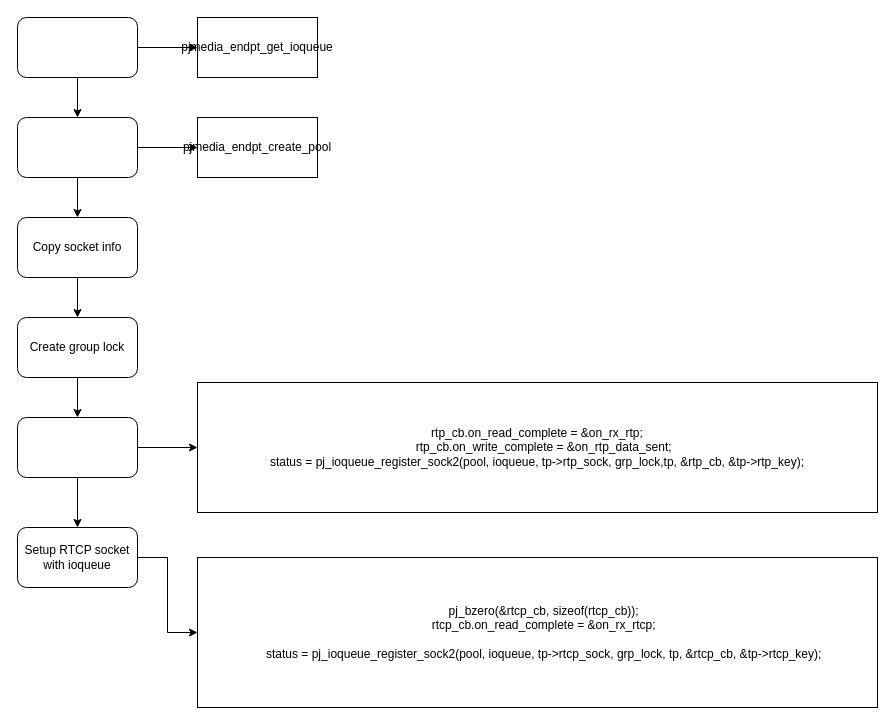
This 895x725 diagram has some shape labels left out. Each missing label, with the centre of its shape:
"Create transport structure" goes at point 77,147.
"Get ioqueue instance" goes at point 77,47.
"Setup RTP socket with the ioqueue" goes at point 77,447.
